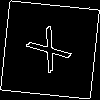X: (25, 25, 80, 82)
